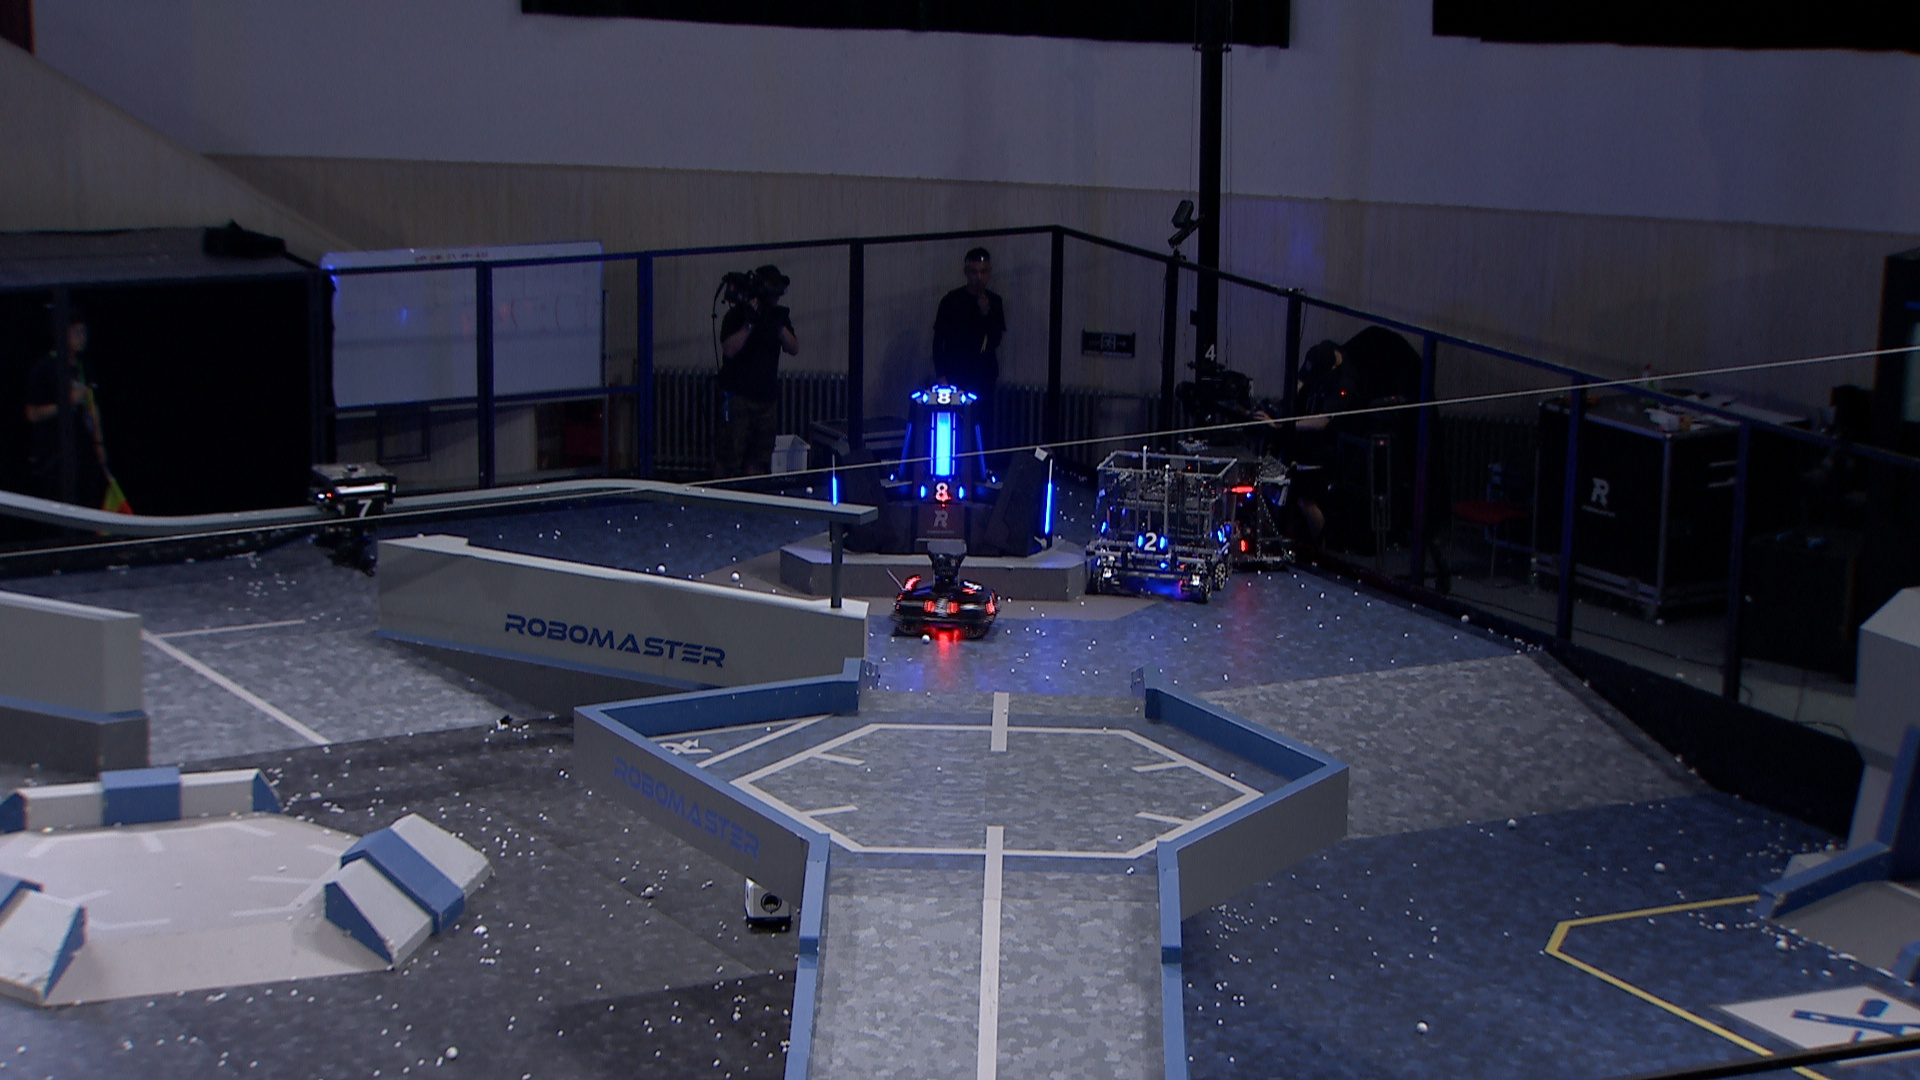armor: (338, 498, 392, 520), (936, 413, 953, 479), (897, 422, 915, 479), (920, 386, 968, 407), (918, 481, 967, 501), (922, 593, 960, 618), (1134, 531, 1168, 553), (975, 423, 988, 477), (1043, 481, 1055, 535), (1215, 524, 1233, 547), (959, 580, 984, 595), (984, 595, 1001, 616), (829, 476, 841, 506)
base: (828, 384, 1058, 560)
car: (1083, 447, 1240, 604), (1168, 438, 1298, 572), (893, 538, 1004, 642)
watcher: (305, 462, 401, 576)
